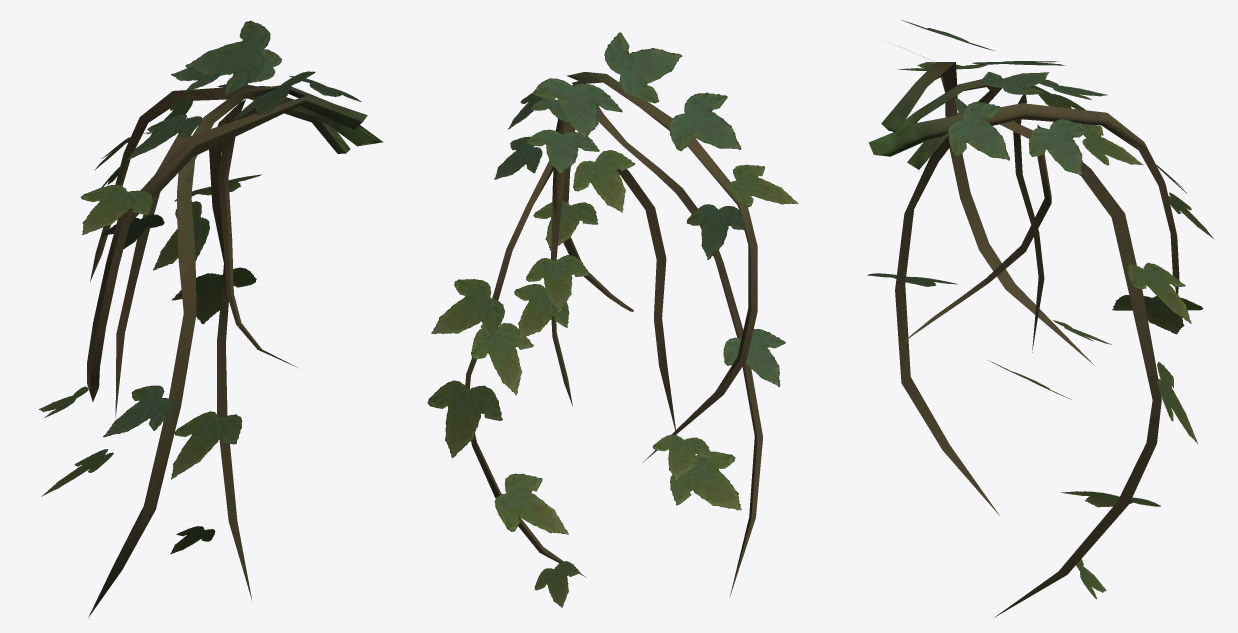
File: vine_A.fbx
The picture shows the model from 3 angles, left to right: view 1: azimuth 30°, elevation 25°; view 2: azimuth 150°, elevation 25°; view 3: azimuth 270°, elevation 25°; orthographic projection. The views are drawn at different scales.
Parts seen in each view (by area): view 1: vine_A; view 2: vine_A; view 3: vine_A.
Part boxes in pixels (x1,y1,x2,y2): vine_A: (39,20,383,617); vine_A: (427,32,798,607); vine_A: (867,19,1213,617).
Bounding box in the file's own units: 1.96 × 3.31 × 1.93.
